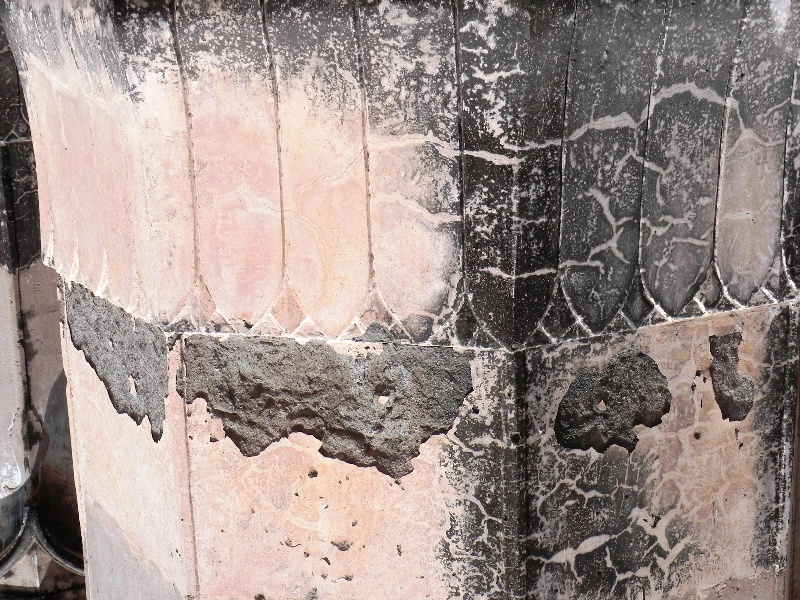Spalling: (171, 308, 477, 488), (51, 266, 167, 445), (555, 340, 679, 462), (700, 325, 765, 425)
